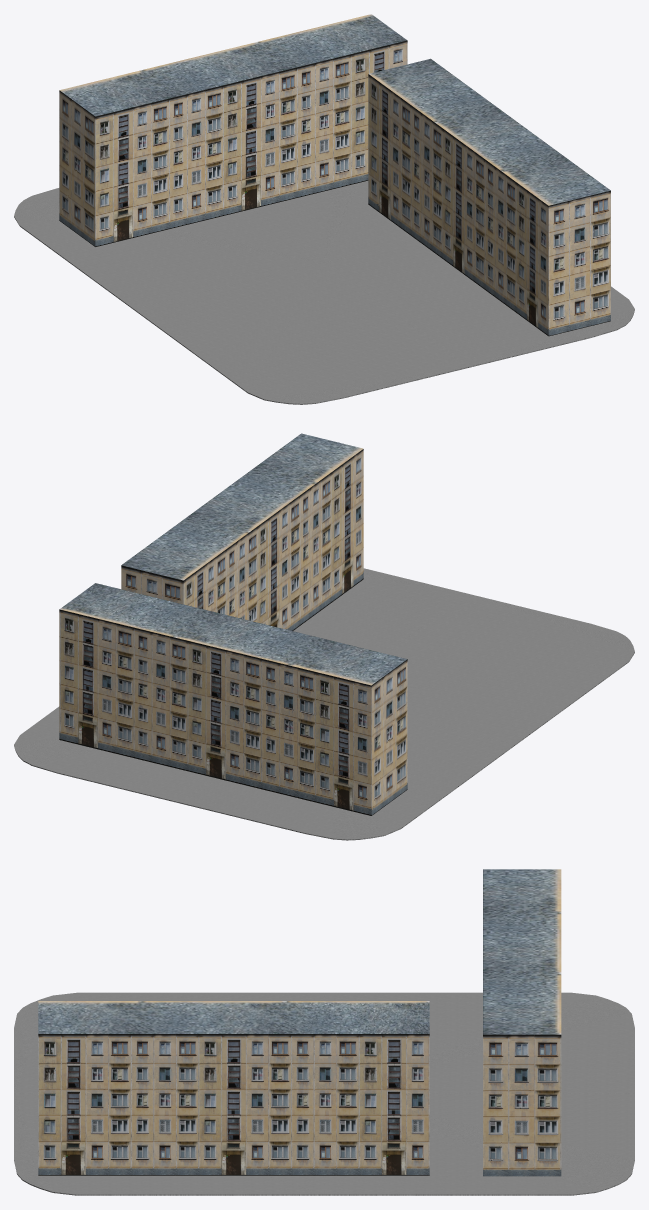
File: city.glb
The picture shows the model from 3 angles, top to bottom: view 1: azimuth 30°, elevation 25°; view 2: azimuth 150°, elevation 25°; view 3: azimuth 270°, elevation 25°; orthographic projection. The views are drawn at different scales.
Visible parts, largest first — view 1: Plane.003, Cube.014, Cube.000; view 2: Cube.014, Plane.003, Cube.000; view 3: Cube.000, Plane.003, Cube.014.
Boxes of the visible parts, bbox=[...] form: Plane.003: bbox=[14, 180, 634, 404]; Cube.014: bbox=[59, 14, 407, 246]; Cube.000: bbox=[368, 58, 610, 336]; Cube.014: bbox=[59, 583, 407, 815]; Plane.003: bbox=[14, 568, 634, 840]; Cube.000: bbox=[121, 433, 363, 630]; Cube.000: bbox=[38, 1001, 429, 1175]; Plane.003: bbox=[14, 992, 634, 1195]; Cube.014: bbox=[483, 869, 561, 1176].
Size of what is drawn, in the model's own units: 50.38 by 16.62 by 65.47.
2 materials, 2 textured.
